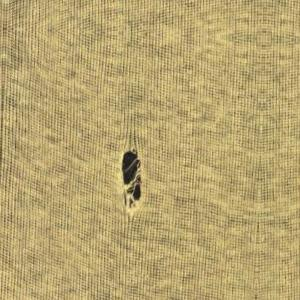hole: (115, 146, 147, 212)
